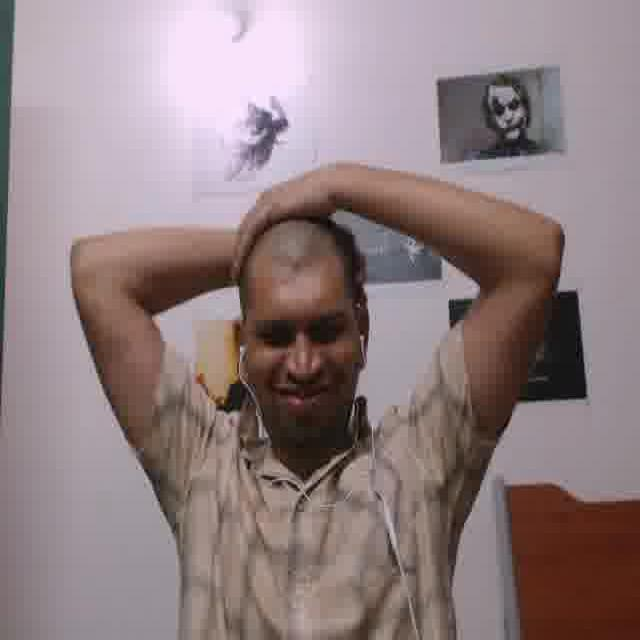Confusion: (245, 259, 354, 433)
